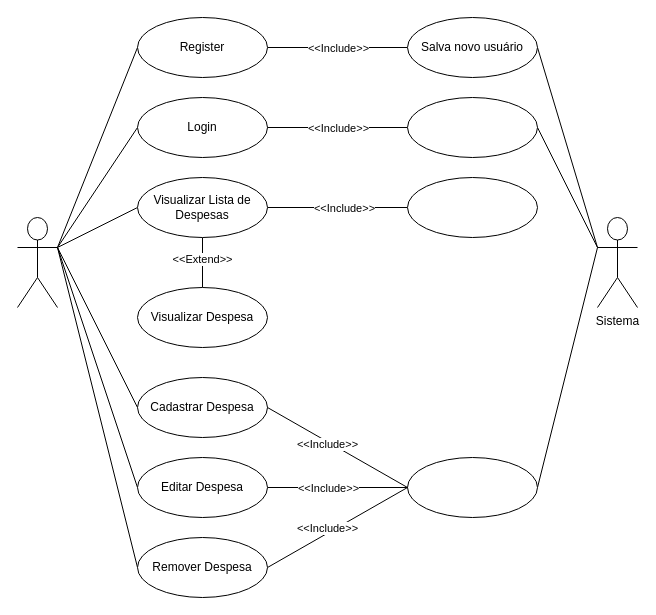
Image size: 656x615. Some labels were removed from this diagram. Here are the shapes that lost their labels. From the top down, the centre of each, then its label:
(472,127): Valida dados
(472,207): Visualizar Montante de Despesas
(37,262): Usuario
(472,487): Alterar o Montante de Despesas
